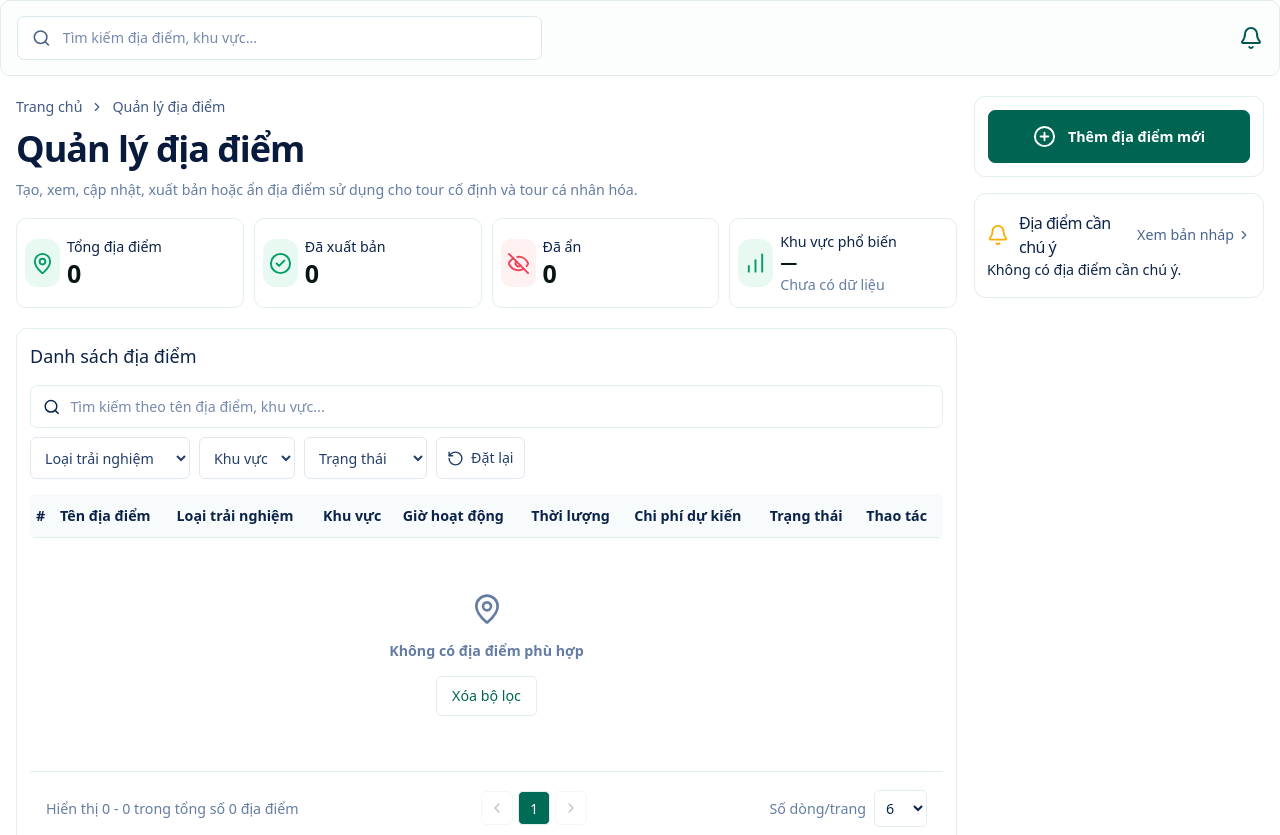
Admin places › has draft creation and no category explanation card
Expected: the text "Không có địa điểm phù hợp" is shown, [389,640,584,661]
Click the button "Thêm địa điểm mới" at (1119, 136), box [988,110,1250,163]
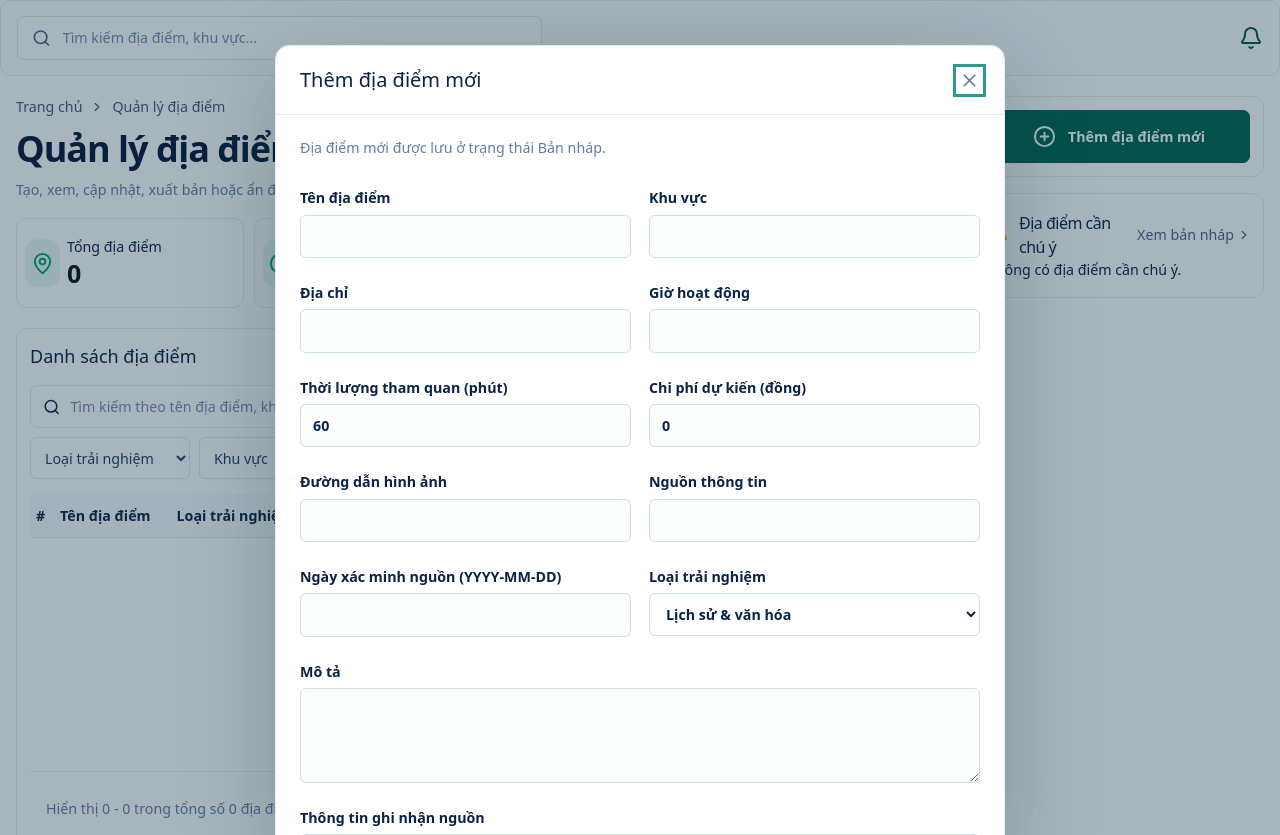
Now the text "Địa điểm mới được lưu ở trạng thái Bản nháp." is shown, box [300,138,606,157]
Now the field labelled "Nguồn thông tin" is shown, box [649,499,980,542]
